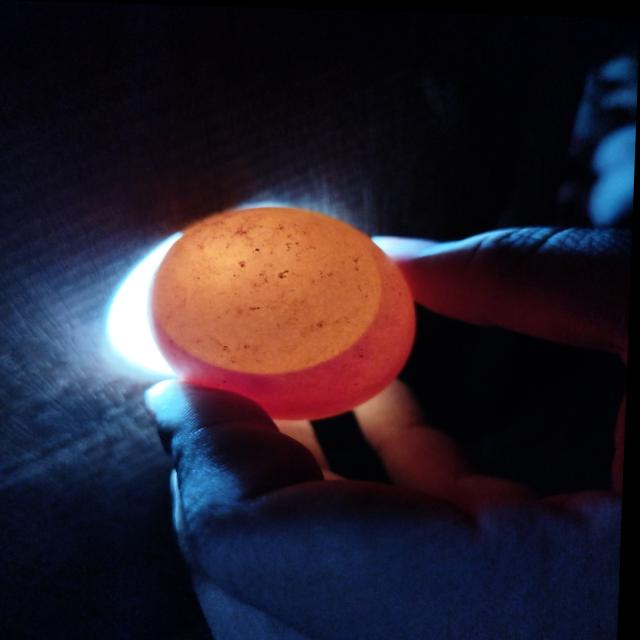Camara de Ar: (154, 206, 383, 373)
